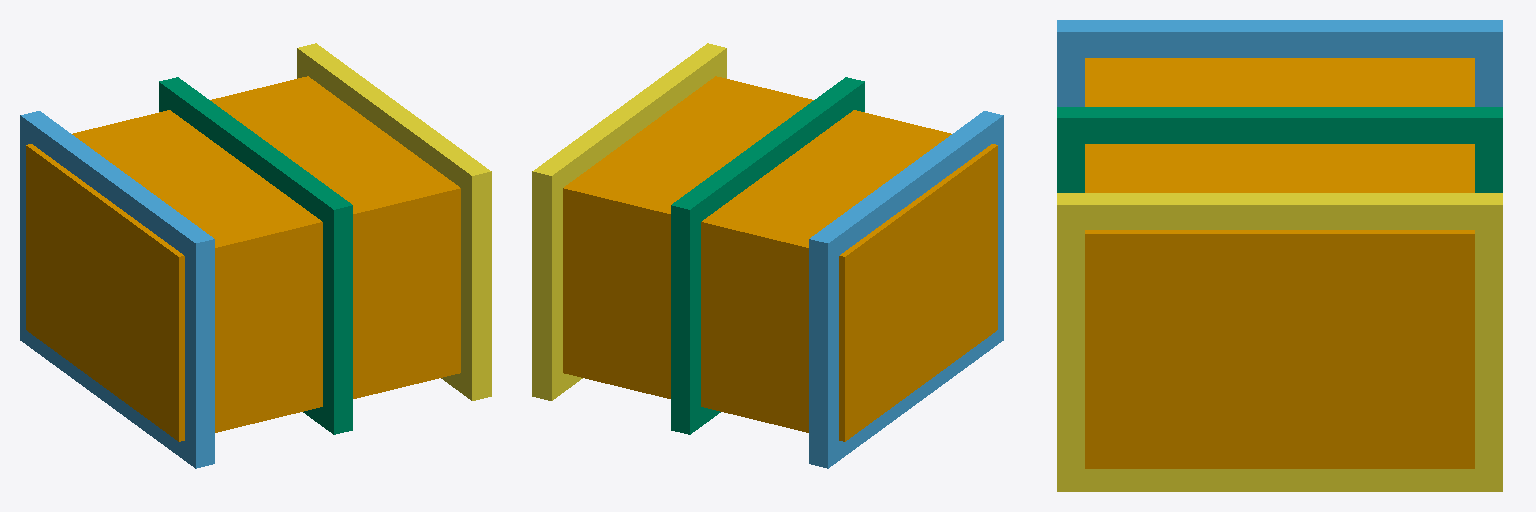
URDF robot description (debris003):
<?xml version="1.0" ?>
<robot name="debris003">

<link name="debris003">
<visual> <origin xyz="0 0 0" rpy="0 0 0" />
<geometry> <box size="0.80 0.69 0.46"/> </geometry>
</visual>
<collision> <origin xyz="0 0 0" rpy="0 0 0" />
<geometry> <box size="0.80 0.69 0.46"/> </geometry>
</collision>
<inertial> <origin xyz="0 0 0" rpy="0 0 0" />
<mass value="10.0" />
<inertia ixx="0.6991" ixy="0" ixz="0" iyy="0.6991" iyz="0" izz="0.6991" />
</inertial>
</link>
<gazebo reference="debris003"> <material>Gazebo/Wood</material> </gazebo>

<link name="debris0030">
<visual> <origin xyz="-0.36 0 0" rpy="0 0 0" />
<geometry> <box size="0.05 0.79 0.56"/> </geometry>
</visual>
<collision> <origin xyz="-0.36 0 0" rpy="0 0 0" />
<geometry> <box size="0.05 0.79 0.56"/> </geometry>
</collision>
<inertial> <origin xyz="0 0 0" rpy="0 0 0" />
<mass value="0.1" />
<inertia ixx="0.0100" ixy="0" ixz="0" iyy="0.0100" iyz="0" izz="0.0100" />
</inertial>
</link>
<gazebo reference="debris0030"> <material>Gazebo/Wood</material> </gazebo>

<joint name="debris0030joint" type="fixed">
<parent link="debris003"/>
<child link="debris0030"/>
<origin xyz="0 0 0" rpy="0 0 0" />
</joint>

<link name="debris0031">
<visual> <origin xyz="0.00 0 0" rpy="0 0 0" />
<geometry> <box size="0.05 0.79 0.56"/> </geometry>
</visual>
<collision> <origin xyz="0.00 0 0" rpy="0 0 0" />
<geometry> <box size="0.05 0.79 0.56"/> </geometry>
</collision>
<inertial> <origin xyz="0 0 0" rpy="0 0 0" />
<mass value="0.1" />
<inertia ixx="0.0100" ixy="0" ixz="0" iyy="0.0100" iyz="0" izz="0.0100" />
</inertial>
</link>
<gazebo reference="debris0031"> <material>Gazebo/Wood</material> </gazebo>

<joint name="debris0031joint" type="fixed">
<parent link="debris003"/>
<child link="debris0031"/>
<origin xyz="0 0 0" rpy="0 0 0" />
</joint>

<link name="debris0032">
<visual> <origin xyz="0.36 0 0" rpy="0 0 0" />
<geometry> <box size="0.05 0.79 0.56"/> </geometry>
</visual>
<collision> <origin xyz="0.36 0 0" rpy="0 0 0" />
<geometry> <box size="0.05 0.79 0.56"/> </geometry>
</collision>
<inertial> <origin xyz="0 0 0" rpy="0 0 0" />
<mass value="0.1" />
<inertia ixx="0.0100" ixy="0" ixz="0" iyy="0.0100" iyz="0" izz="0.0100" />
</inertial>
</link>
<gazebo reference="debris0032"> <material>Gazebo/Wood</material> </gazebo>

<joint name="debris0032joint" type="fixed">
<parent link="debris003"/>
<child link="debris0032"/>
<origin xyz="0 0 0" rpy="0 0 0" />
</joint>

</robot>

--- Render facts (derived) ---
Views: 3 orthographic renders of the robot side by side, from view 1: azimuth 30°, elevation 25°; view 2: azimuth 150°, elevation 25°; view 3: azimuth 270°, elevation 25°.
Model debris003 with 4 links and 3 joints (3 fixed), rooted at debris003, posed every joint at zero.
Visible links, largest first — view 1: debris003, debris0030, debris0032, debris0031; view 2: debris003, debris0030, debris0032, debris0031; view 3: debris003, debris0032, debris0030, debris0031.
Link boxes in pixels (x1,y1,x2,y2): debris003: (26,76,460,441); debris0030: (20,111,214,468); debris0032: (297,43,491,400); debris0031: (159,77,352,434); debris003: (563,76,997,441); debris0030: (809,111,1003,468); debris0032: (532,43,726,400); debris0031: (671,77,864,434); debris003: (1085,58,1474,468); debris0032: (1057,193,1502,491); debris0030: (1057,20,1502,106); debris0031: (1057,107,1502,192).
Size in the robot's own frame: 0.8 by 0.79 by 0.56 metres.
Geometry: primitives only (box / cylinder / sphere), no mesh files.
